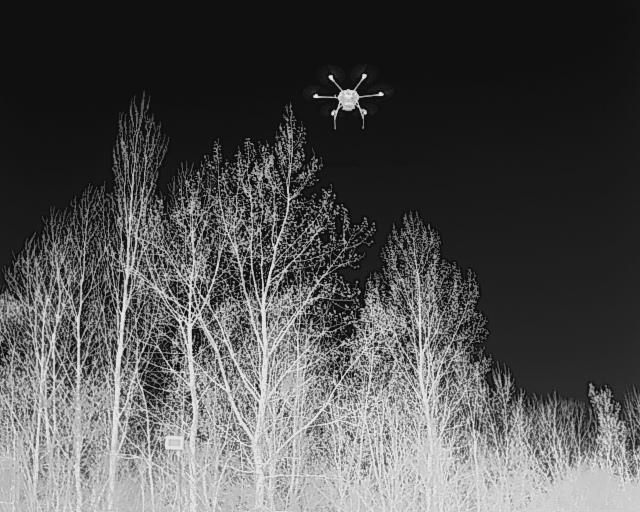drone: (301, 62, 390, 148)
